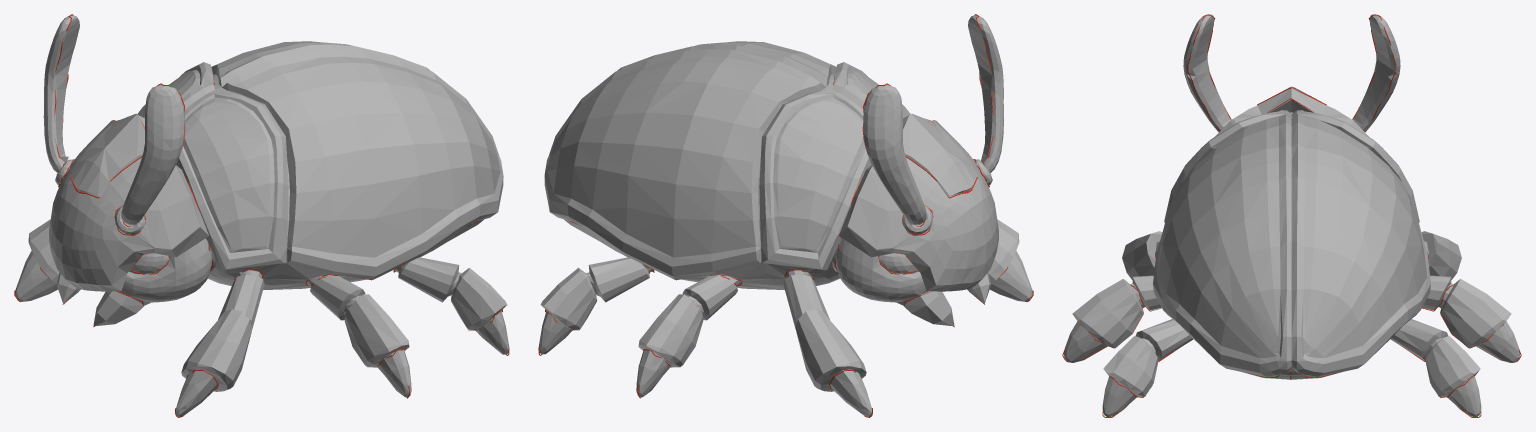
3 views of the same model, side by side, from view 1: azimuth 30°, elevation 25°; view 2: azimuth 150°, elevation 25°; view 3: azimuth 270°, elevation 25° (orthographic). The views are drawn at different scales.
Visible parts, largest first — view 1: material.obj; view 2: material.obj; view 3: material.obj.
Boxes of the visible parts, <box> form: material.obj: <box>14,14,509,417</box>; material.obj: <box>538,14,1033,417</box>; material.obj: <box>1062,14,1521,417</box>.
Size of the model in its own units: 1.9 by 1.28 by 1.91.
1 material, 1 textured.
